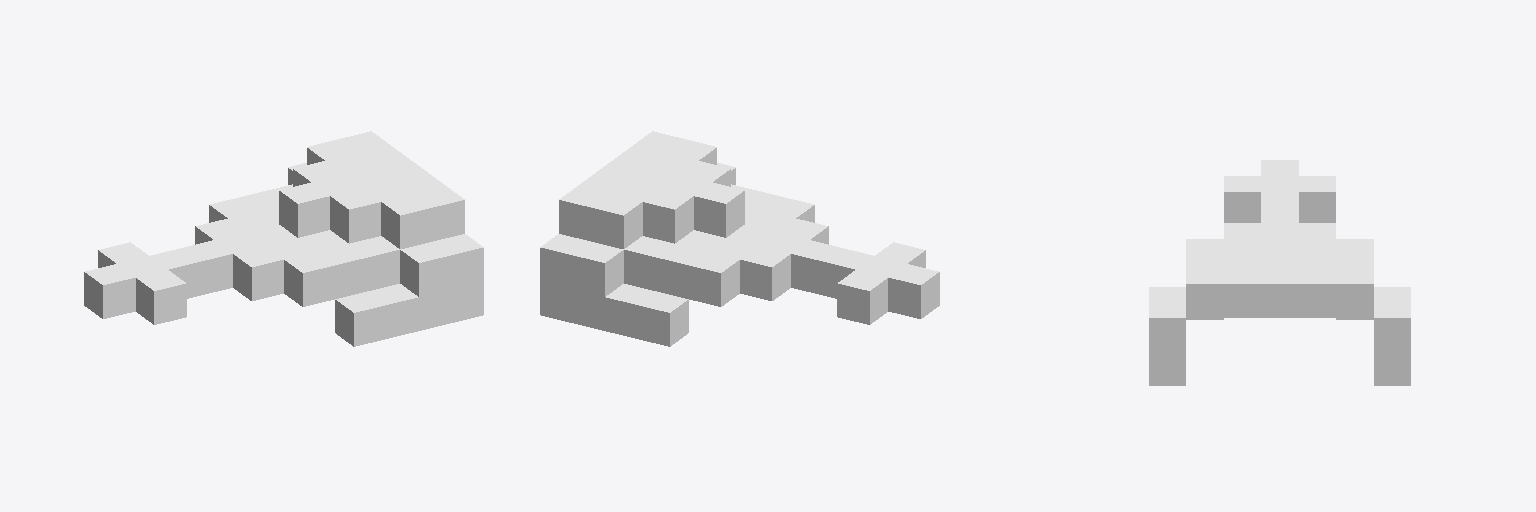
File: reyHieloNivel5-1.obj
3 views of the same model, side by side, from view 1: azimuth 30°, elevation 25°; view 2: azimuth 150°, elevation 25°; view 3: azimuth 270°, elevation 25° (orthographic).
Visible parts, largest first — view 1: object 1; view 2: object 1; view 3: object 1.
Part boxes in pixels (bbox=[...]): object 1: bbox=[84, 131, 483, 346]; object 1: bbox=[540, 131, 939, 346]; object 1: bbox=[1149, 160, 1410, 385].
Bounding box in the file's own units: 1 × 0.3 × 0.7.